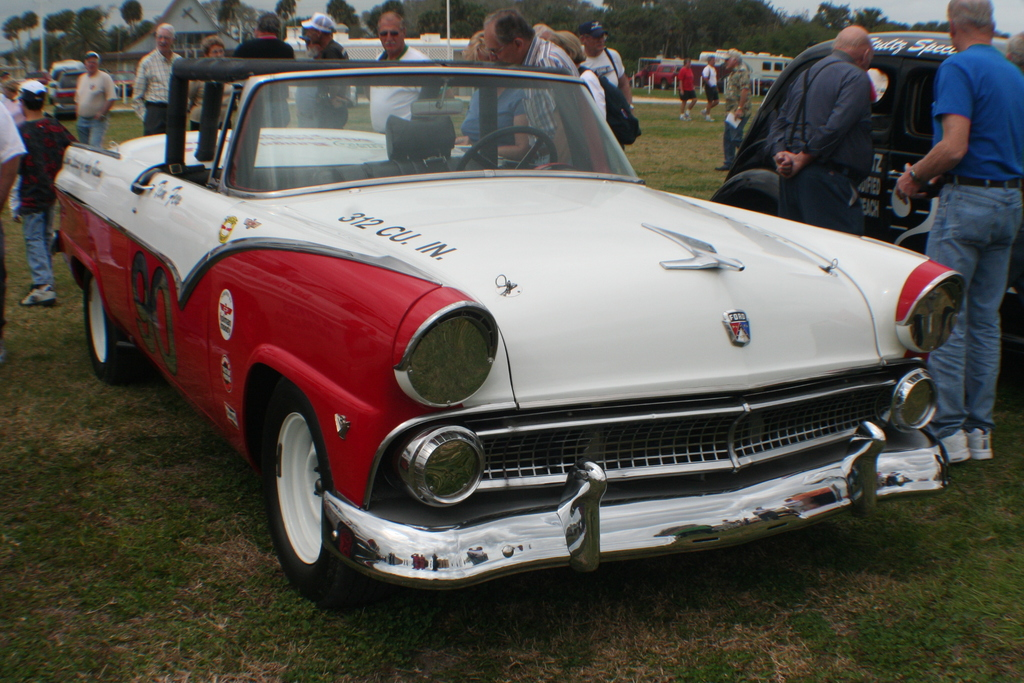Person: (0, 0, 1023, 463)
